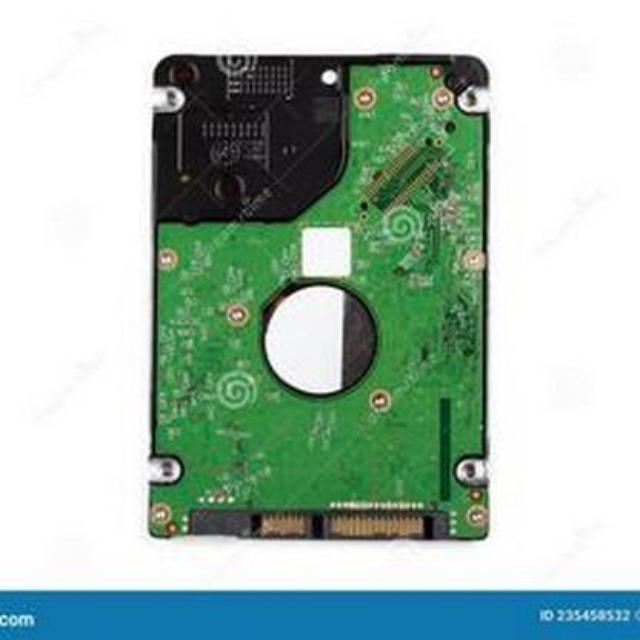DISK: (147, 47, 496, 553)
